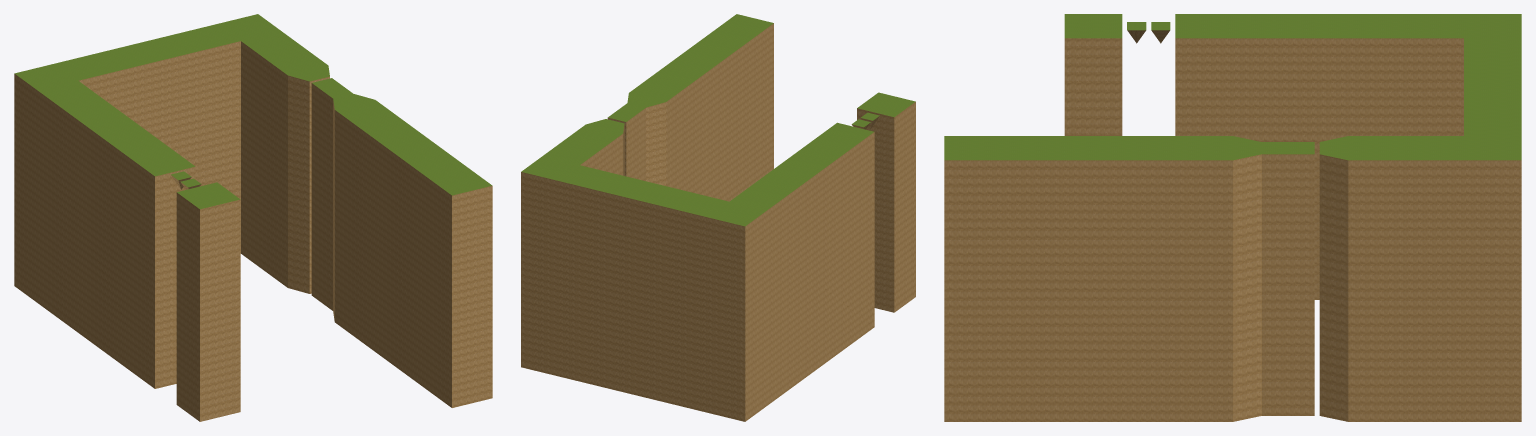
The model's file is firstStageGround.fbx.
The picture shows the model from 3 angles, left to right: view 1: azimuth 30°, elevation 25°; view 2: azimuth 150°, elevation 25°; view 3: azimuth 270°, elevation 25°; orthographic projection. The views are drawn at different scales.
Parts seen in each view (by area): view 1: Box002, Box001, Box003; view 2: Box002, Box001, Box003; view 3: Box001, Box002, Box003.
Part boxes in pixels (x1,y1,x2,y2): Box002: [14, 14, 329, 388]; Box001: [311, 78, 492, 407]; Box003: [176, 182, 240, 421]; Box002: [521, 119, 874, 421]; Box001: [607, 14, 773, 201]; Box003: [857, 92, 915, 312]; Box001: [944, 136, 1314, 421]; Box002: [1175, 14, 1521, 421]; Box003: [1064, 14, 1122, 135].
Bounding box in the file's own units: 14173 × 11811 × 23622.
